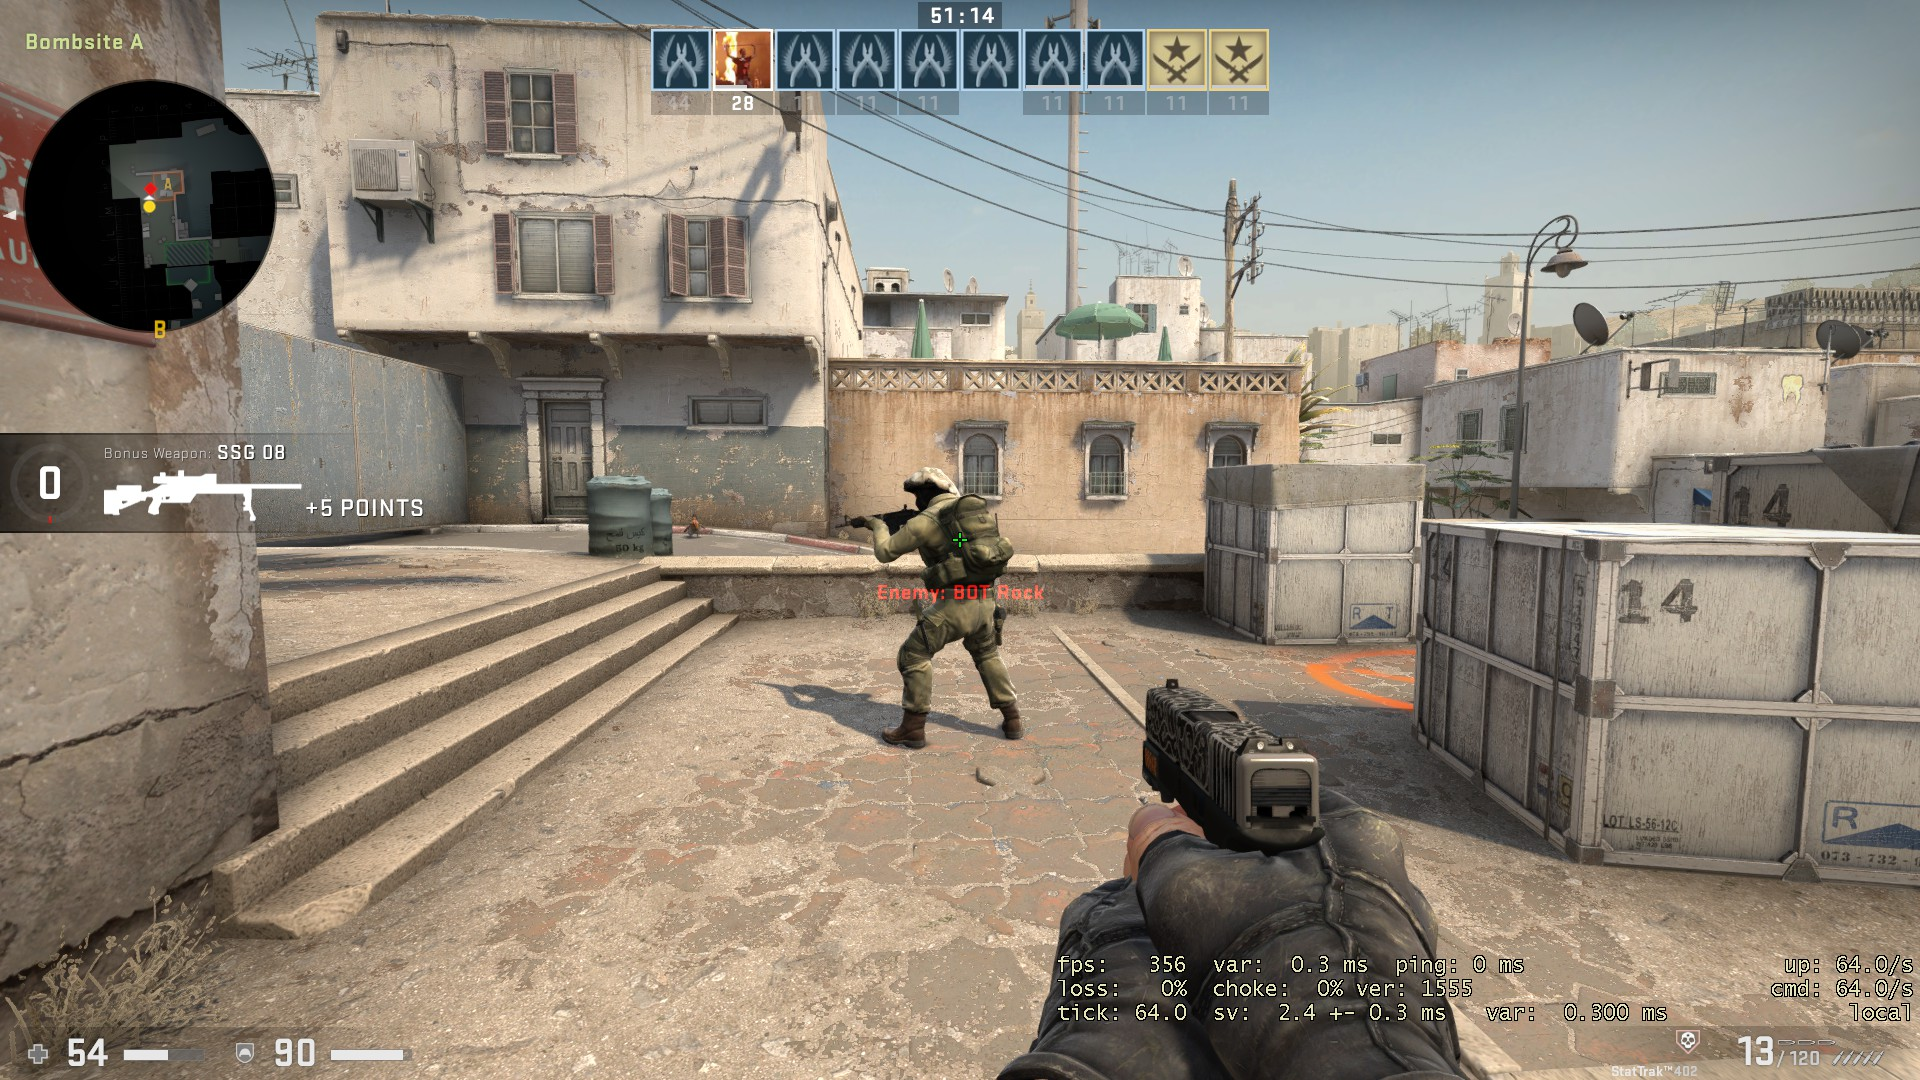player: (830, 462, 1039, 756)
